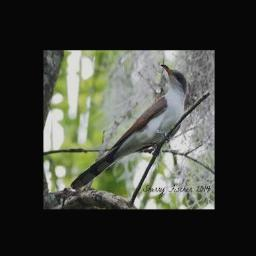Cuckoo: (70, 64, 186, 190)
